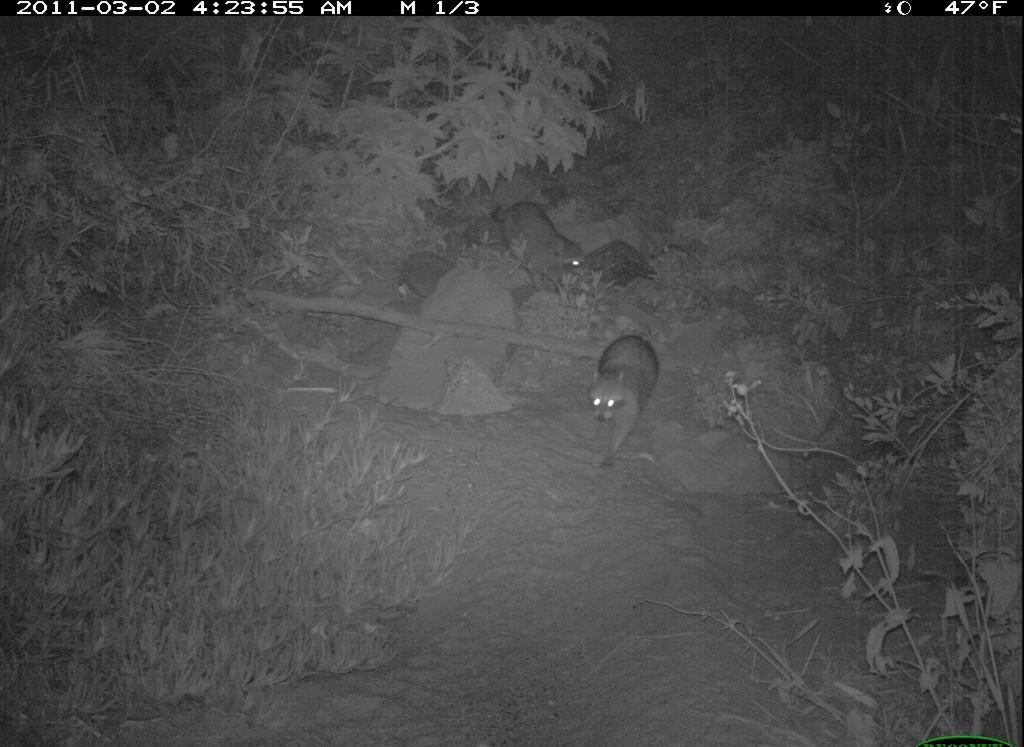raccoon: (481, 188, 618, 294), (585, 332, 661, 474)
